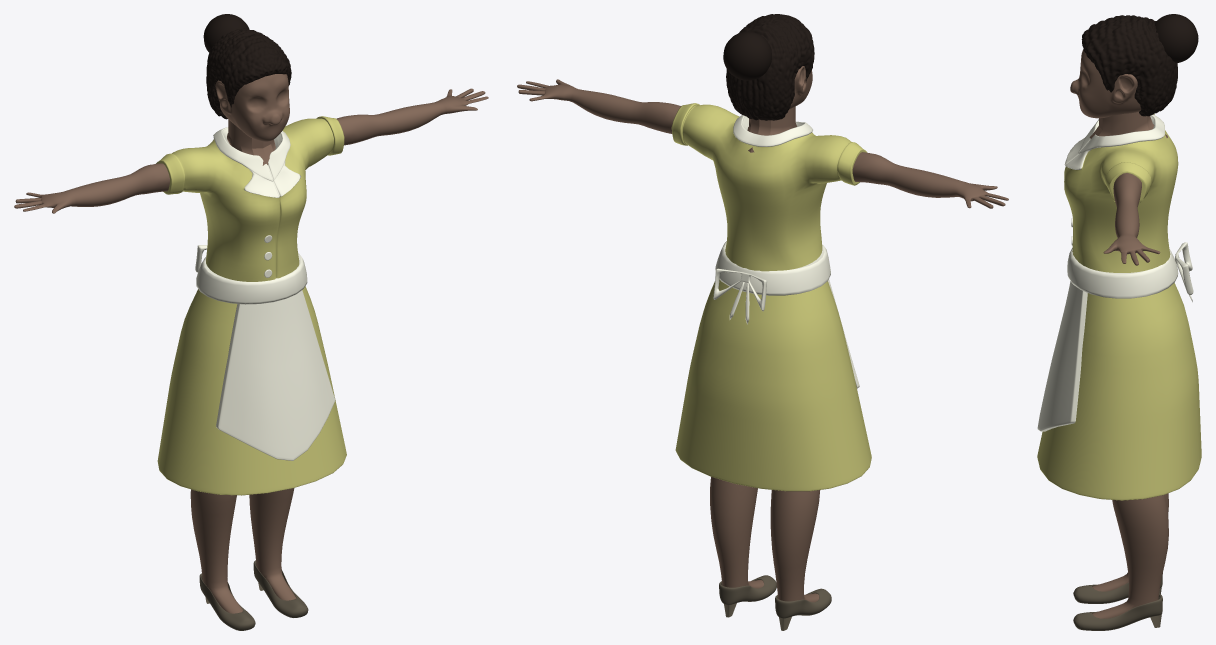
Rendered from CHAR_Waitress001_AOR.fbx.
The picture shows the model from 3 angles, left to right: view 1: azimuth 30°, elevation 25°; view 2: azimuth 150°, elevation 25°; view 3: azimuth 270°, elevation 25°; orthographic projection. The views are drawn at different scales.
Visible parts, largest first — view 1: Waitress_1; view 2: Waitress_1; view 3: Waitress_1.
Boxes of the visible parts, x1,y1,x2,y2 form: Waitress_1: (14,14,488,630); Waitress_1: (517,14,1008,630); Waitress_1: (1037,14,1201,630).
Bounding box in the file's own units: 1.54 × 1.79 × 0.4483.
